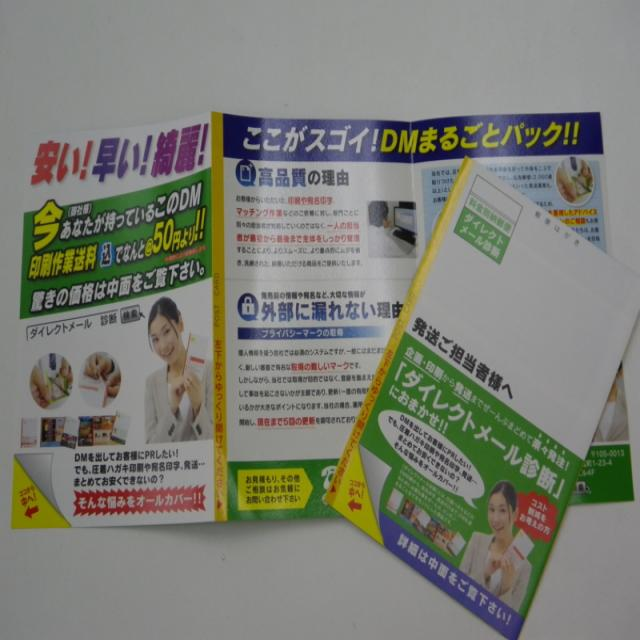paper: (23, 106, 630, 628)
